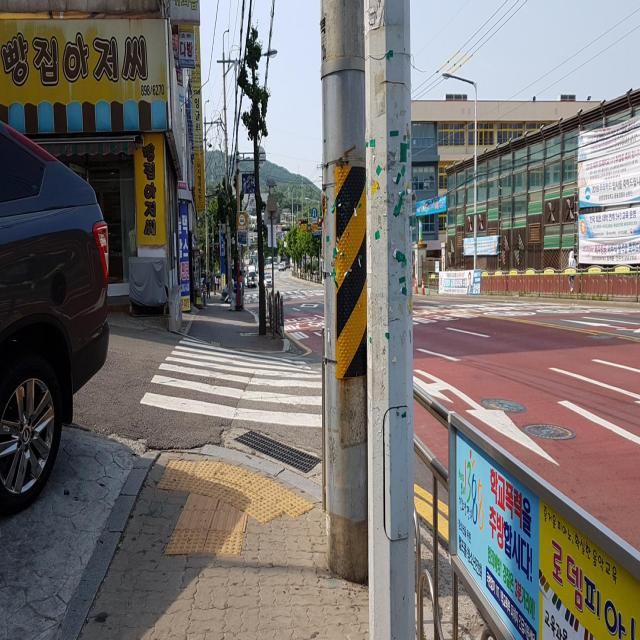횡단보도: (139, 336, 324, 430)
